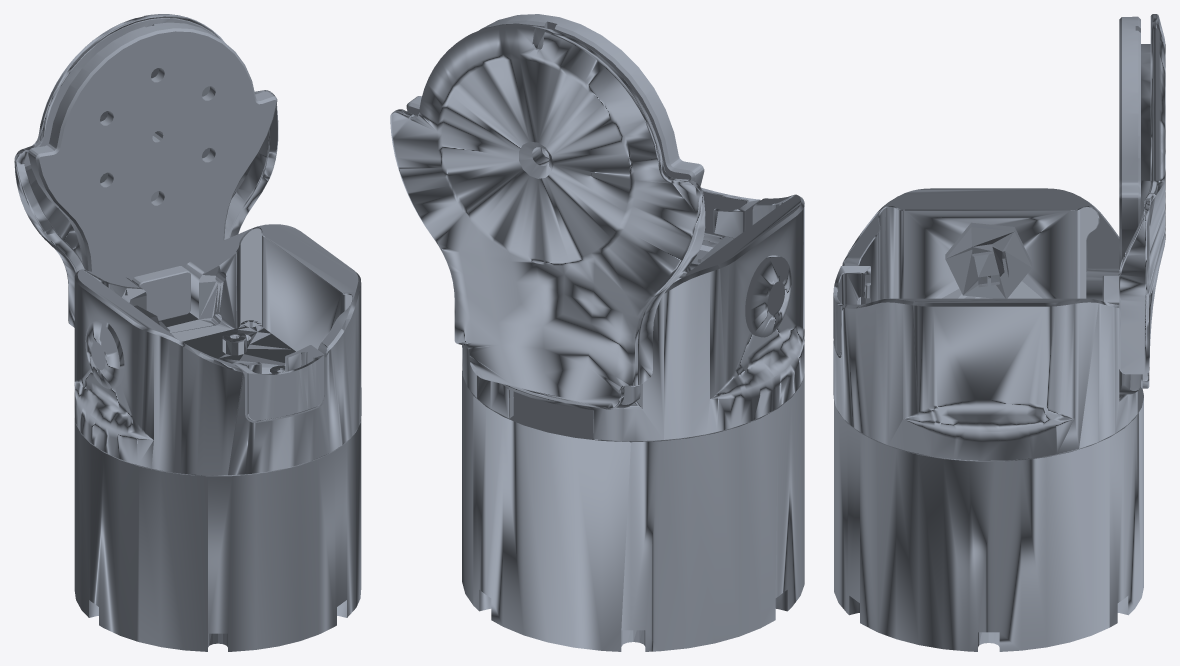
3 renders of one model, left to right at view 1: azimuth 30°, elevation 25°; view 2: azimuth 150°, elevation 25°; view 3: azimuth 270°, elevation 25°, orthographic. The views are drawn at different scales.
Size of the model in its own units: 0.06 by 0.1135 by 0.0609.
